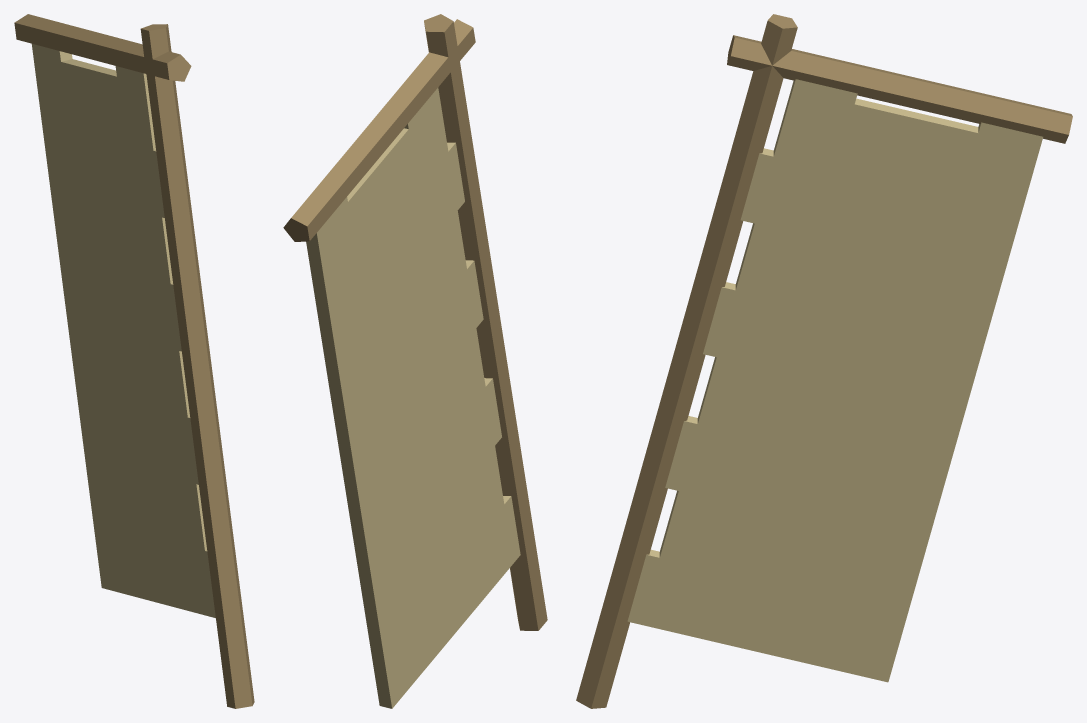
Rendered from SM_Prop_Samurai_HouseFlag.fbx.
3 views of the same model, side by side, from view 1: azimuth 30°, elevation 25°; view 2: azimuth 150°, elevation 25°; view 3: azimuth 270°, elevation 25° (orthographic). The views are drawn at different scales.
Visible parts, largest first — view 1: SM_Prop_Samurai_HouseFlag; view 2: SM_Prop_Samurai_HouseFlag; view 3: SM_Prop_Samurai_HouseFlag.
Boxes of the visible parts, x1,y1,x2,y2 form: SM_Prop_Samurai_HouseFlag: (14, 14, 254, 708); SM_Prop_Samurai_HouseFlag: (283, 14, 547, 708); SM_Prop_Samurai_HouseFlag: (576, 14, 1072, 708).
Size of the model in its own units: 60.74 by 92.7 by 3.63.
